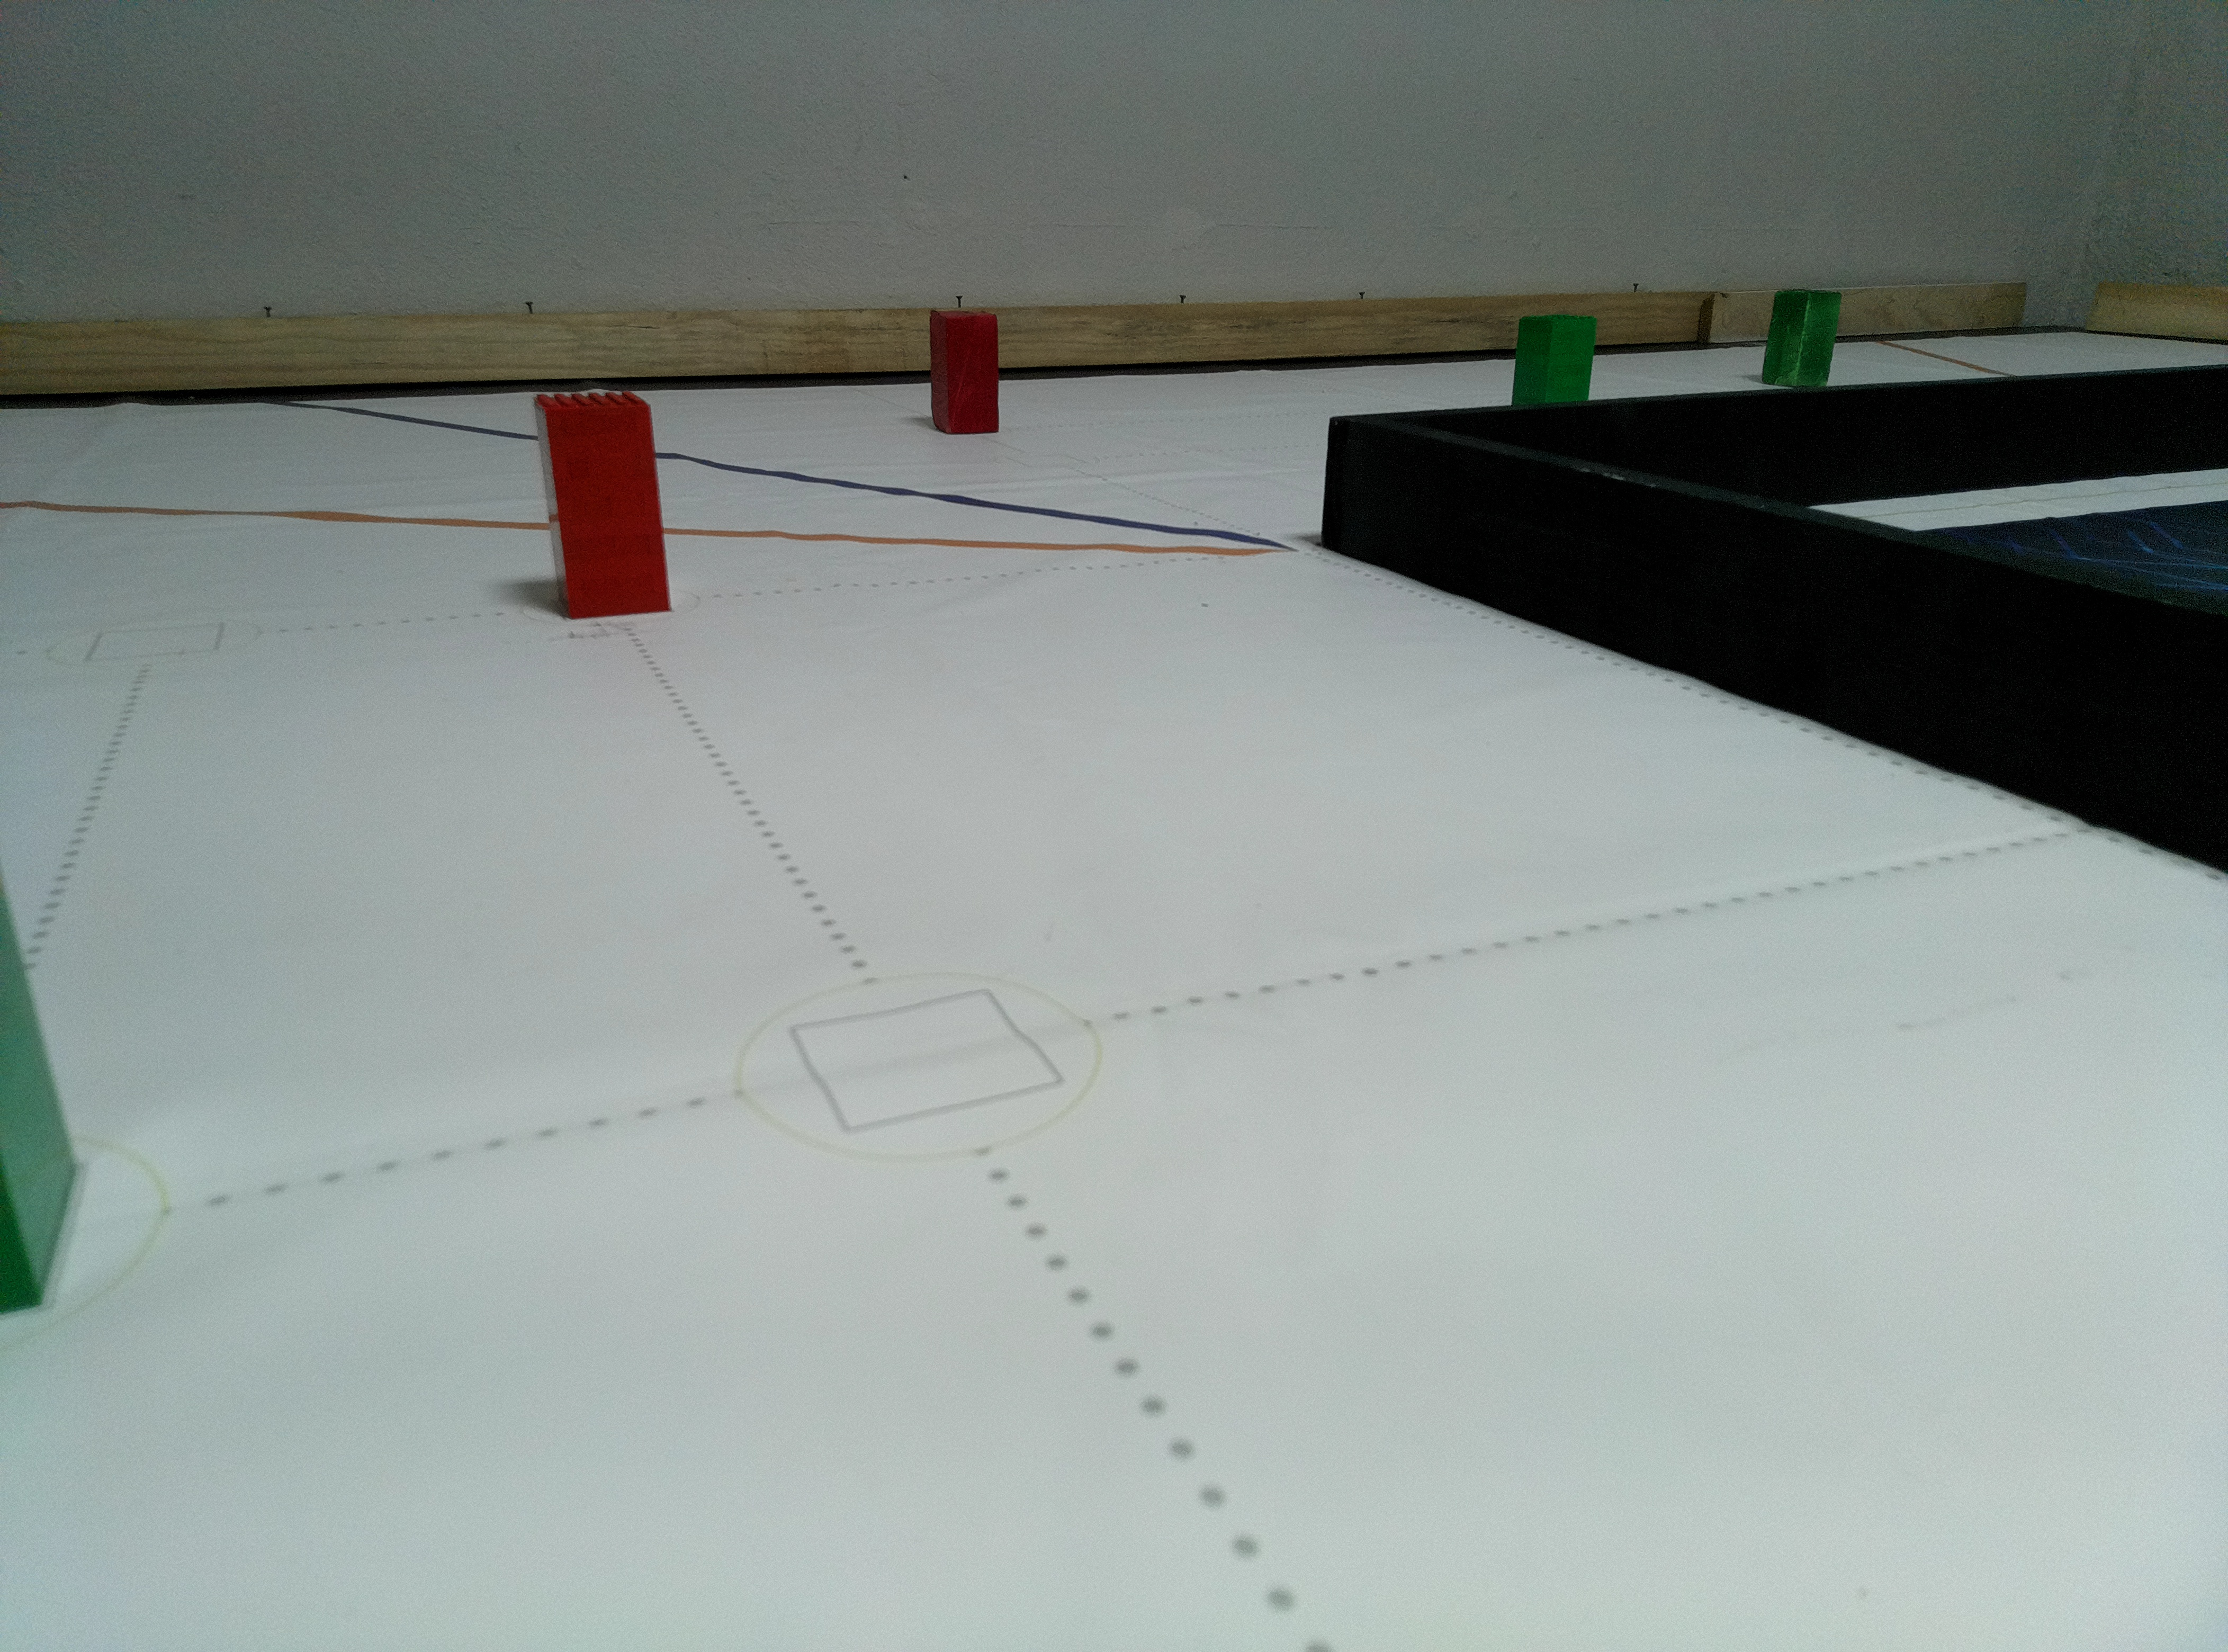greenbox: (0, 866, 80, 1317)
redbox: (533, 390, 678, 621), (930, 311, 999, 434)
